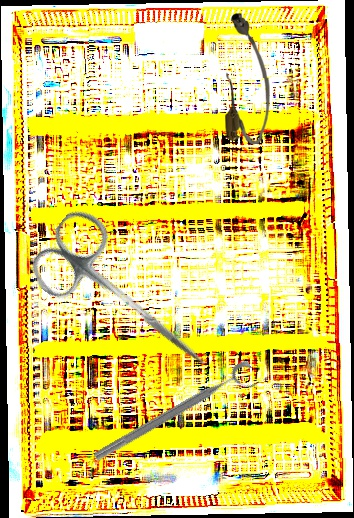Cannula: (223, 12, 271, 145)
Fixation Ring: (90, 358, 262, 475)
Iris Scissors: (21, 201, 235, 397)
